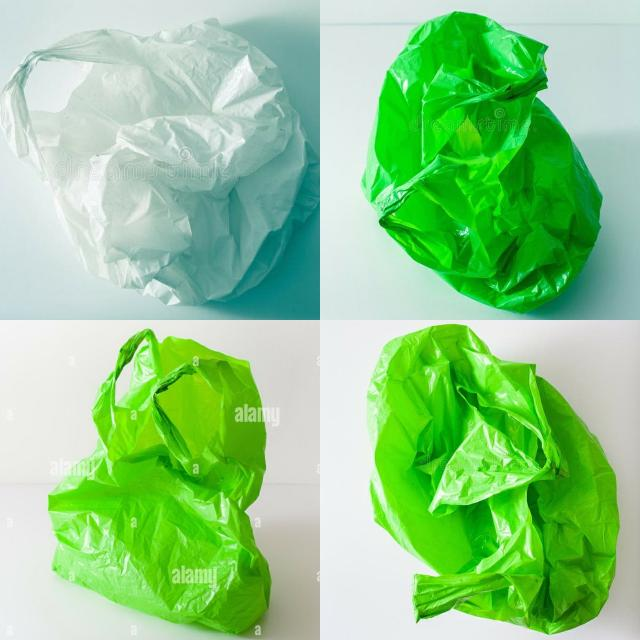Single-layer Plastic: (2, 19, 318, 305), (368, 326, 619, 634), (362, 12, 601, 312), (49, 329, 271, 634)
